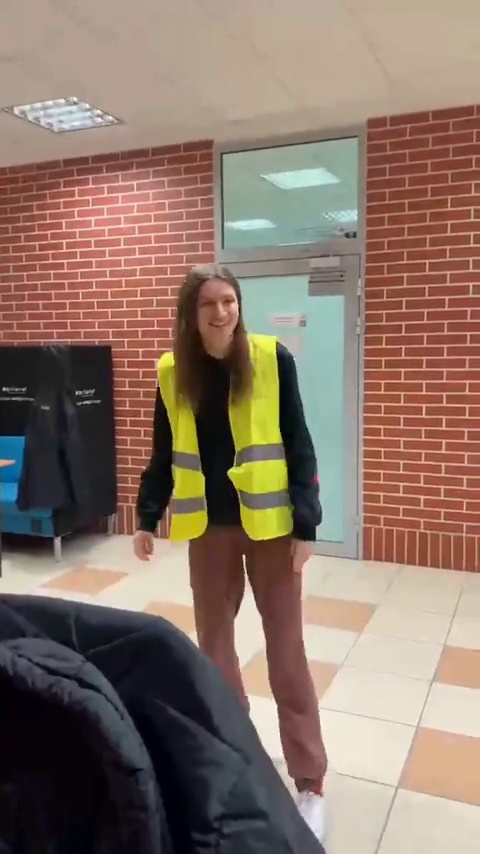vest: (139, 276, 342, 830)
